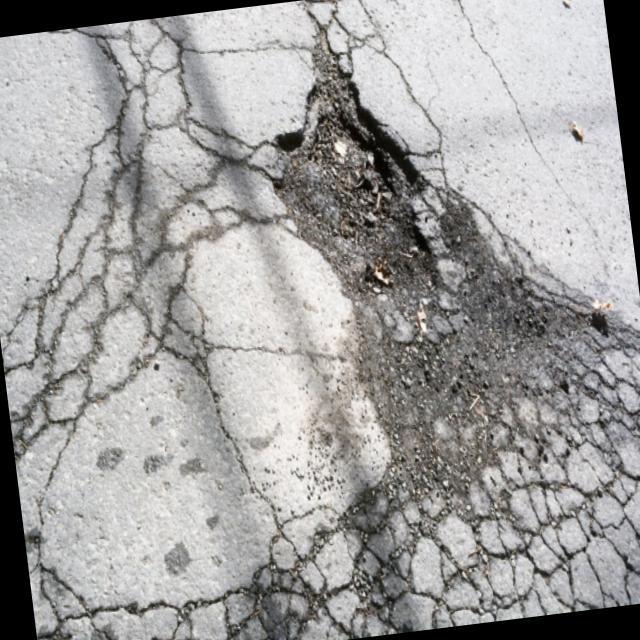Potholes: (202, 0, 577, 496)
